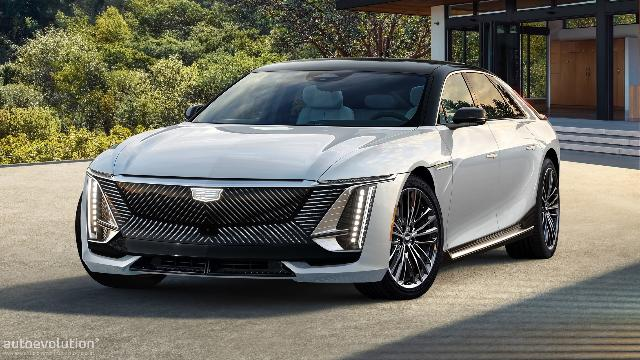cadillac: (76, 57, 560, 300)
